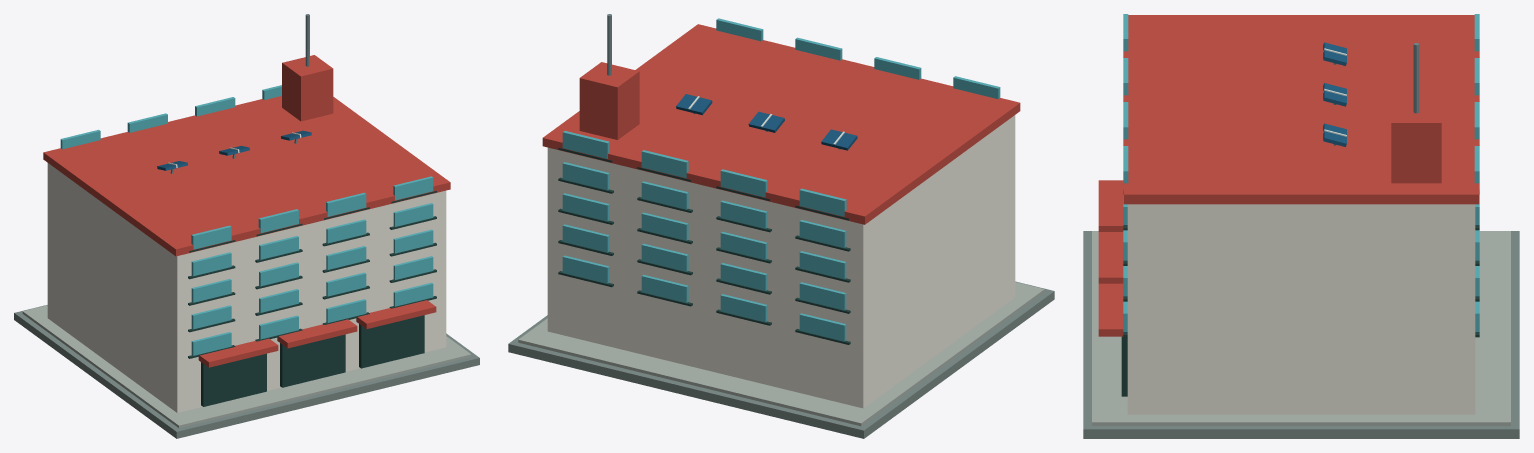
The model's file is fire_lv4.glb.
3 views of the same model, side by side, from view 1: azimuth 30°, elevation 25°; view 2: azimuth 150°, elevation 25°; view 3: azimuth 270°, elevation 25° (orthographic). The views are drawn at different scales.
Parts seen in each view (by area): view 1: ivory, red, glass, dark, concrete, pavement, solar; view 2: ivory, red, glass, concrete, pavement, dark, solar; view 3: ivory, red, concrete, pavement, glass, solar, dark, steel.
Part boxes in pixels (x1,y1,x2,y2): ivory: (47,163,446,412); red: (43,55,450,367); glass: (60,85,433,355); dark: (188,190,436,406); concrete: (22,305,471,427); pavement: (14,305,479,438); solar: (157,130,311,170); ivory: (547,115,1015,408); red: (542,24,1020,224); glass: (562,18,1000,341); concrete: (518,282,1044,426); pavement: (508,281,1054,438); dark: (558,147,850,344); solar: (676,94,857,150); ivory: (1127,204,1475,414); red: (1098,15,1479,336); concrete: (1092,231,1510,425); pavement: (1083,231,1519,438); glass: (1123,14,1479,331); solar: (1323,42,1346,146); dark: (1121,57,1479,396); steel: (1333,43,1419,145).
Size of the model in its own units: 9.8 by 8.37 by 9.1.
